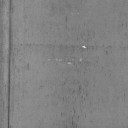surface scratch: (6, 0, 11, 128)
